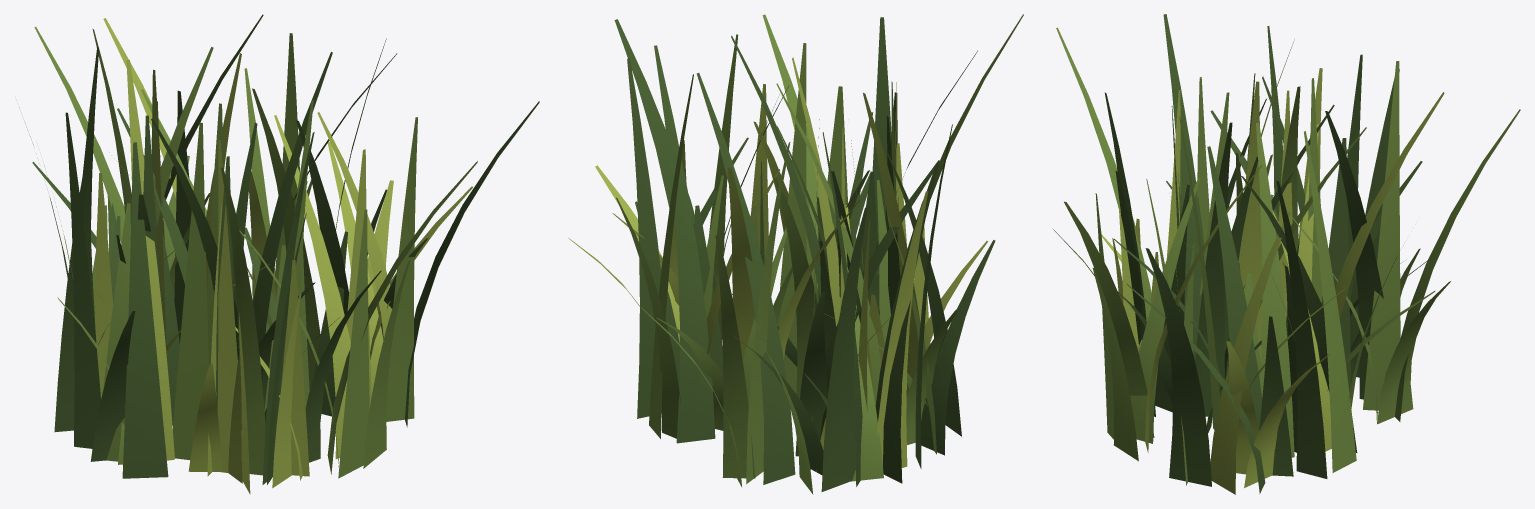
The model's file is grass-tuft.glb.
3 views of the same model, side by side, from view 1: azimuth 30°, elevation 25°; view 2: azimuth 150°, elevation 25°; view 3: azimuth 270°, elevation 25° (orthographic). The views are drawn at different scales.
Visible parts, largest first — view 1: blades_deep, blades_mid, blades_bright; view 2: blades_deep, blades_mid, blades_bright; view 3: blades_deep, blades_mid, blades_bright.
Boxes of the visible parts, x1,y1,x2,y2 form: blades_deep: [19, 14, 539, 484]; blades_mid: [34, 27, 477, 478]; blades_bright: [44, 18, 472, 494]; blades_deep: [614, 17, 995, 491]; blades_mid: [616, 14, 1023, 494]; blades_bright: [568, 57, 987, 472]; blades_deep: [1052, 14, 1427, 493]; blades_mid: [1056, 27, 1520, 485]; blades_bright: [1101, 39, 1444, 494].
Bounding box in the file's own units: 0.4581 × 0.3955 × 0.4818.
